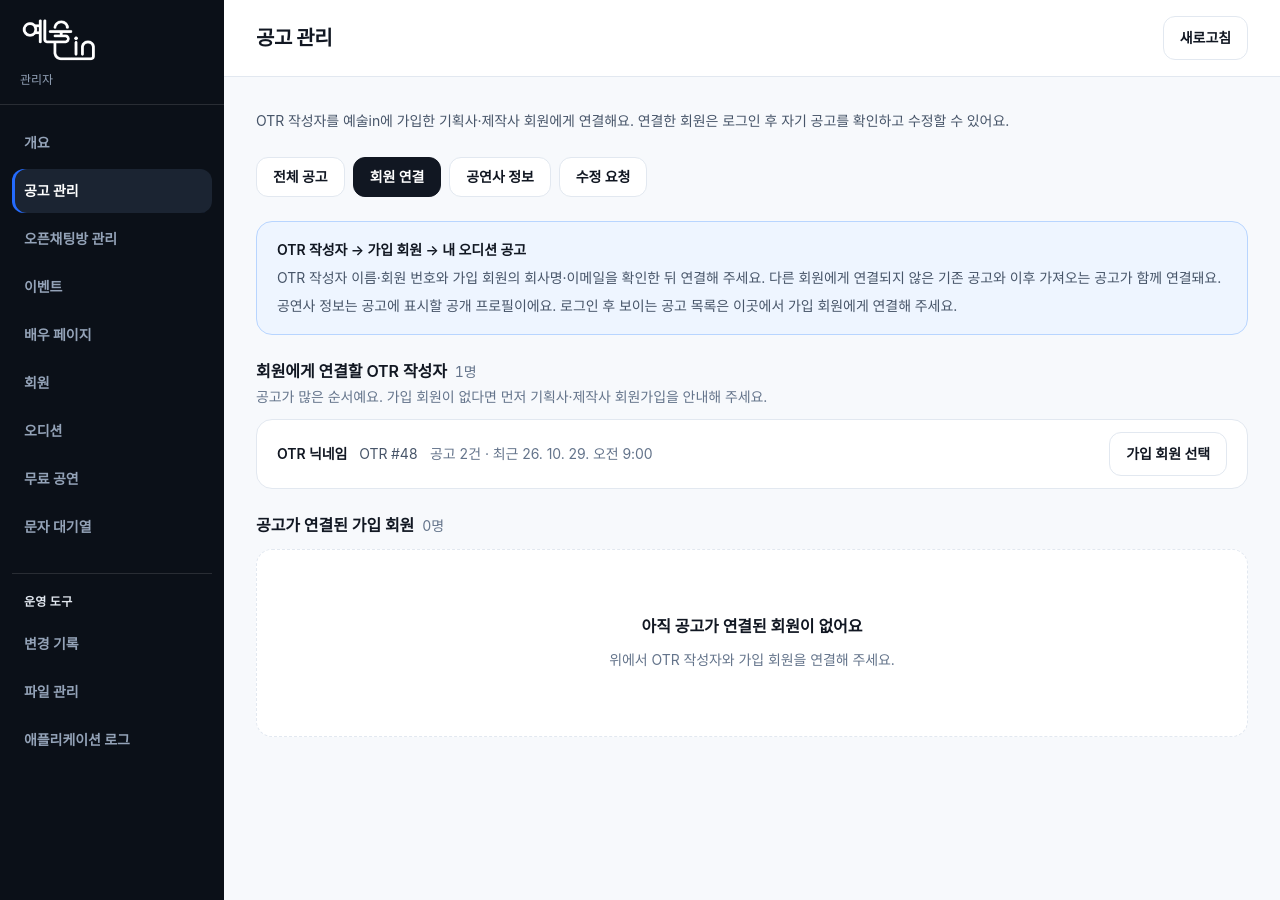
연결 실패 시 선택한 회원을 유지해 다시 시도할 수 있다
Click the button "가입 회원 선택".
click(1168, 454)  # box [1109, 432, 1227, 476]
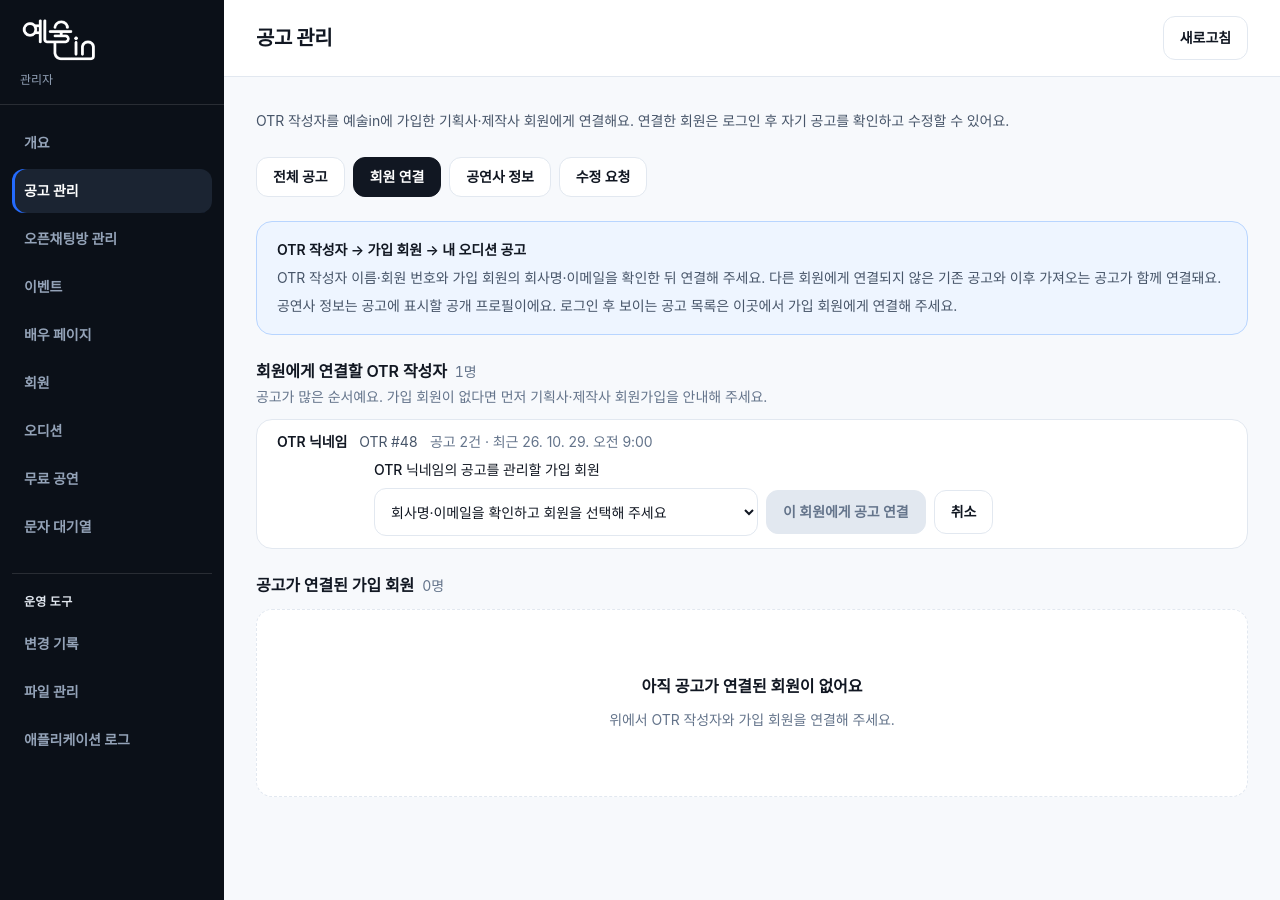
Select "극단 예술 · producer@example.com · 회원 #10" in the dropdown at [566, 512], box [374, 488, 758, 536]
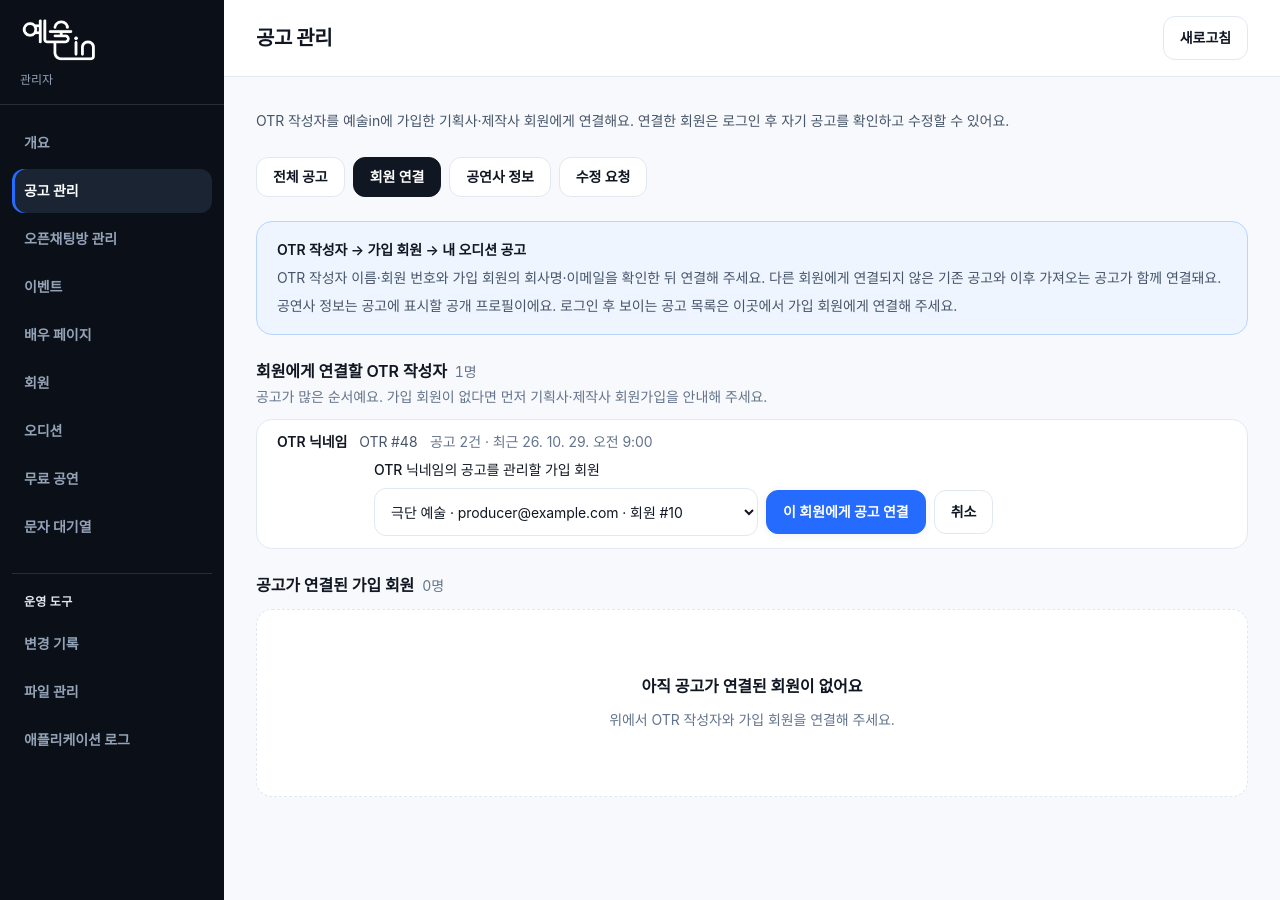
Click the button "이 회원에게 공고 연결".
click(846, 512)  # box [766, 490, 926, 534]
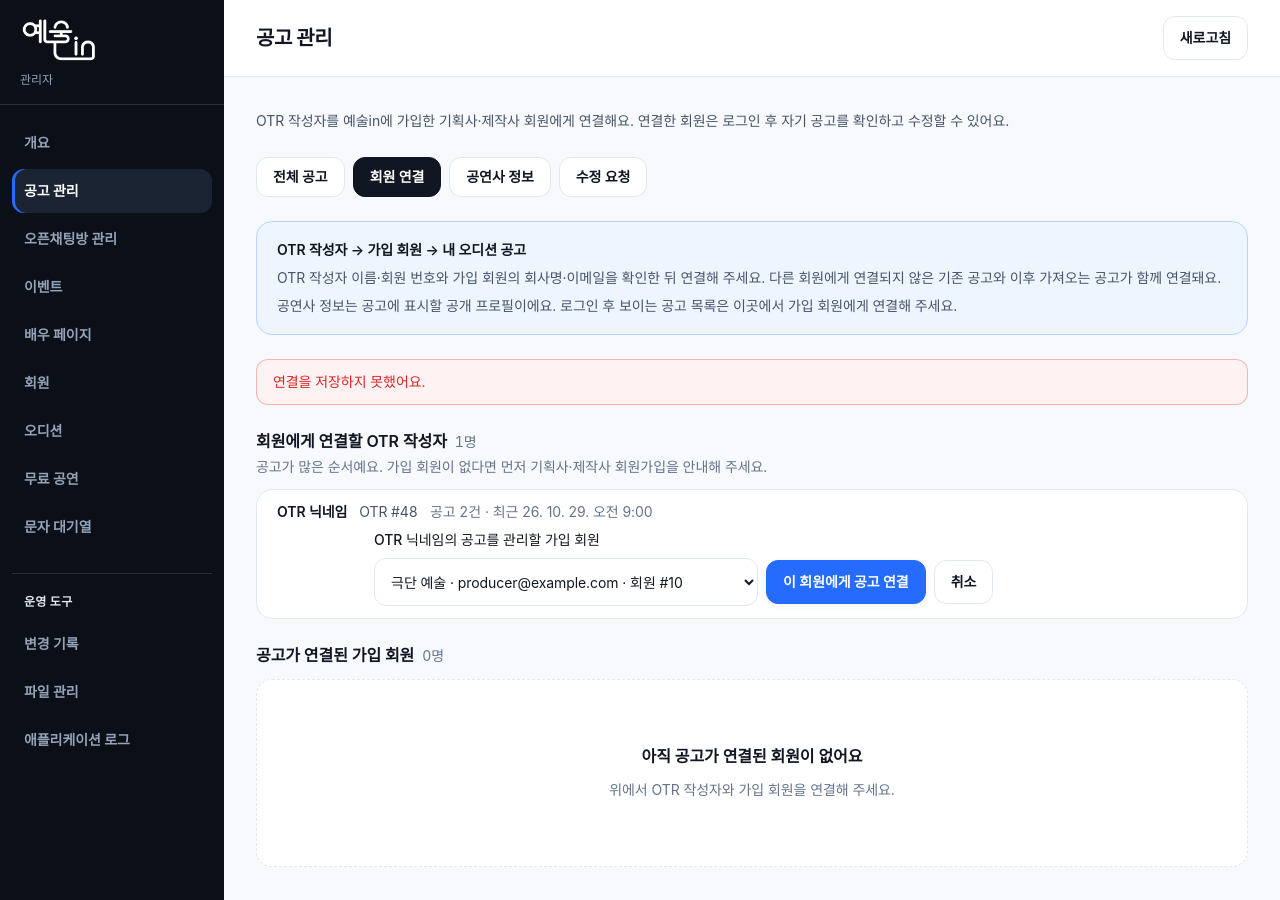
Check: the button "이 회원에게 공고 연결" is enabled
Check: the message "연결을 저장하지 못했어요." is shown, box [256, 359, 1248, 405]
Click the button "이 회원에게 공고 연결".
click(846, 582)  # box [766, 560, 926, 604]
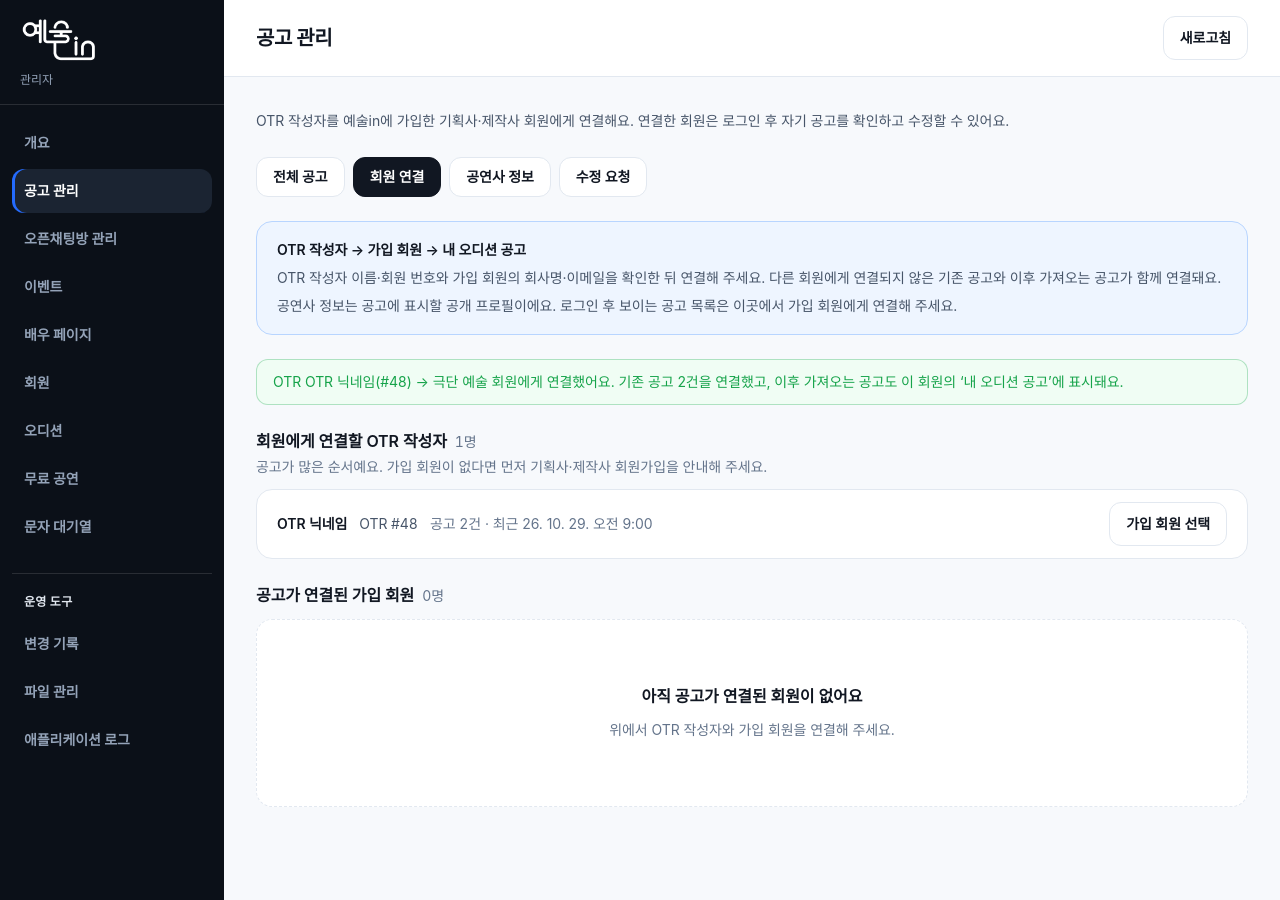
Check: the message shows "기존 공고 2건", box [273, 373, 1124, 390]
